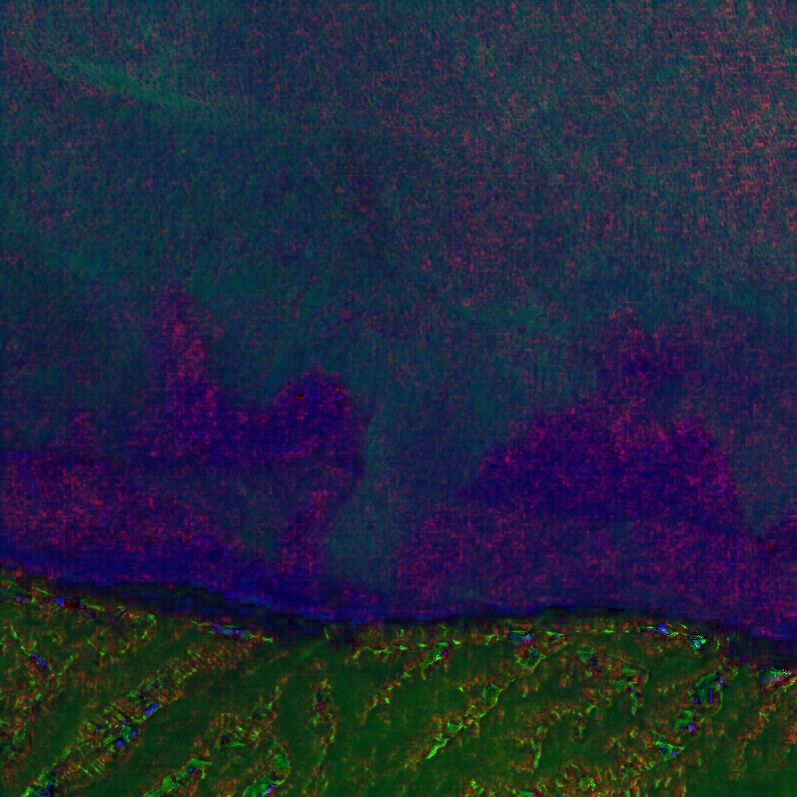rip_current: (313, 267, 582, 592)
